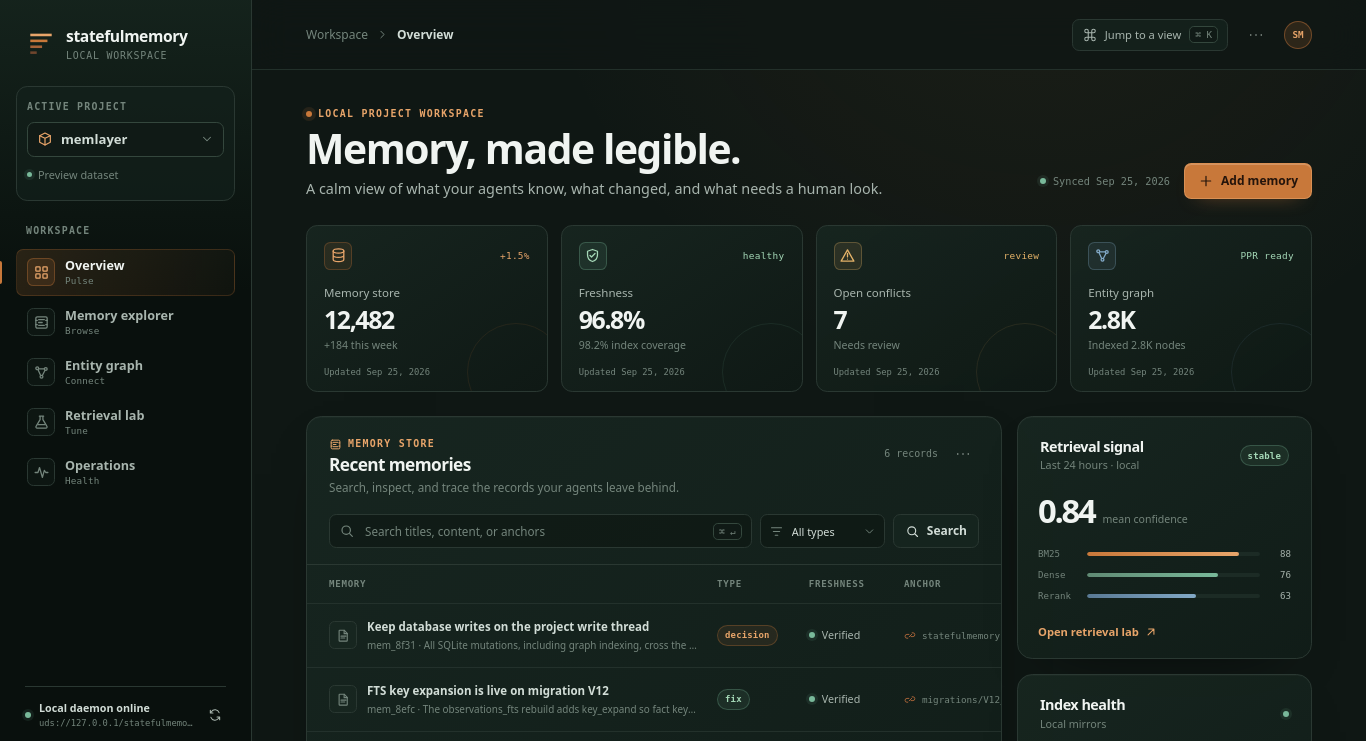
dashboard shell › keeps project selection in the URL
expect the heading "Memory, made legible." is shown: met, box [306, 120, 740, 176]
Select "atlas-api" in the dropdown named "Active project" at (126, 139), box [61, 130, 192, 148]
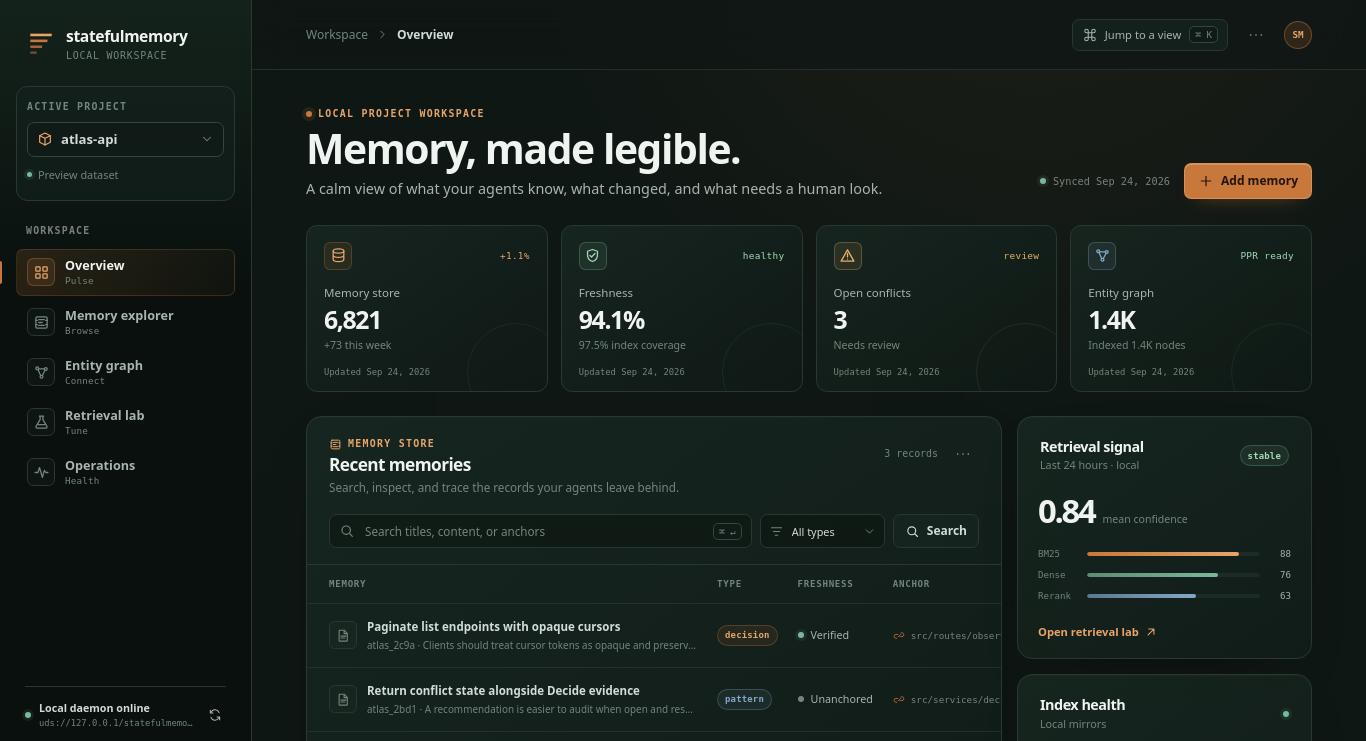
expect the text "Paginate list endpoints with opaque cursors" is shown: met, box [367, 619, 620, 634]
